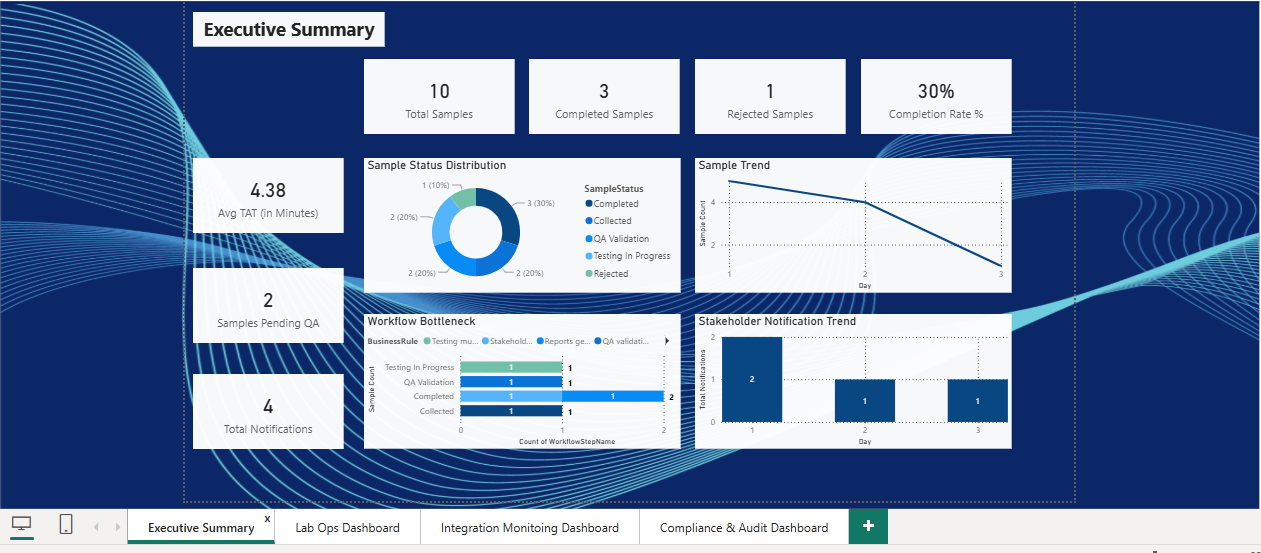

The dashboard page shown, as its layout file describes it:
{"tool":"powerbi","page":{"name":"Executive Summary","canvas":[1280,720],"ordinal":0},"visuals":[{"type":"card","fields":{"Values":["Samples.Total Samples"]},"box":[258.3,83.3,216.7,108.3],"z":0},{"type":"card","fields":{"Values":["Samples.Completed Samples"]},"box":[495.8,83.3,216.7,108.3],"z":1000},{"type":"card","fields":{"Values":["Samples.Rejected Samples"]},"box":[734.7,83.3,216.7,108.3],"z":2000},{"type":"card","fields":{"Values":["Samples.Completion Rate %"]},"box":[973.6,83.3,216.7,108.3],"z":3000},{"type":"textbox","box":[11.1,15.3,276.4,50],"z":4000},{"type":"donutChart","title":"Sample Status Distribution","fields":{"Category":["Samples.SampleStatus"],"Y":["CountNonNull(Samples.SampleStatus)"]},"box":[258.3,226.4,455.6,194.4],"z":5000},{"type":"lineChart","title":"Sample Trend","fields":{"Y":["CountNonNull(Samples.SampleStatus)"],"Category":["Samples.Timestamp.Variation.Date Hierarchy.Day"]},"box":[734.7,226.4,455.6,194.4],"z":6000},{"type":"barChart","title":"Workflow Bottleneck","fields":{"Series":["WorkflowSteps.BusinessRule"],"Category":["Samples.SampleStatus"],"Y":["CountNonNull(WorkflowSteps.WorkflowStepName)"]},"box":[258.3,451.4,455.6,194.4],"z":7000},{"type":"columnChart","title":"Stakeholder Notification Trend","fields":{"Category":["Notifications.Timestamp.Variation.Date Hierarchy.Day"],"Y":["Notifications.Total Notifications"]},"box":[734.7,451.4,455.6,194.4],"z":8000},{"type":"card","fields":{"Values":["Notifications.Total Notifications"]},"box":[11.1,537.5,216.7,108.3],"z":9000},{"type":"card","fields":{"Values":["Samples.Avg TAT Minutes"]},"box":[11.1,226.4,216.7,108.3],"z":10000},{"type":"card","fields":{"Values":["Samples.Samples Pending QA"]},"box":[11.1,384.7,216.7,108.3],"z":11000}]}

Visuals, with their boxes on the page's 1280x720 design canvas (x1, y1, x2, y2). These are canvas units, not pixel positions in the 1261x553 screenshot, which may show the page scaled, cropped or inside an application window:
card - Samples.Total Samples: bbox=(258, 83, 475, 192)
card - Samples.Completed Samples: bbox=(496, 83, 712, 192)
card - Samples.Rejected Samples: bbox=(735, 83, 951, 192)
card - Samples.Completion Rate %: bbox=(974, 83, 1190, 192)
textbox: bbox=(11, 15, 288, 65)
"Sample Status Distribution" donutChart: bbox=(258, 226, 714, 421)
"Sample Trend" lineChart: bbox=(735, 226, 1190, 421)
"Workflow Bottleneck" barChart: bbox=(258, 451, 714, 646)
"Stakeholder Notification Trend" columnChart: bbox=(735, 451, 1190, 646)
card - Notifications.Total Notifications: bbox=(11, 538, 228, 646)
card - Samples.Avg TAT Minutes: bbox=(11, 226, 228, 335)
card - Samples.Samples Pending QA: bbox=(11, 385, 228, 493)
